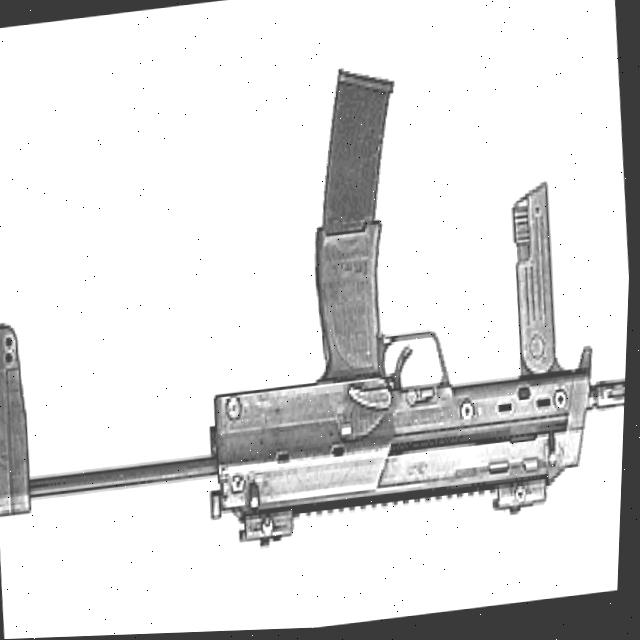firearm: (0, 31, 639, 584)
